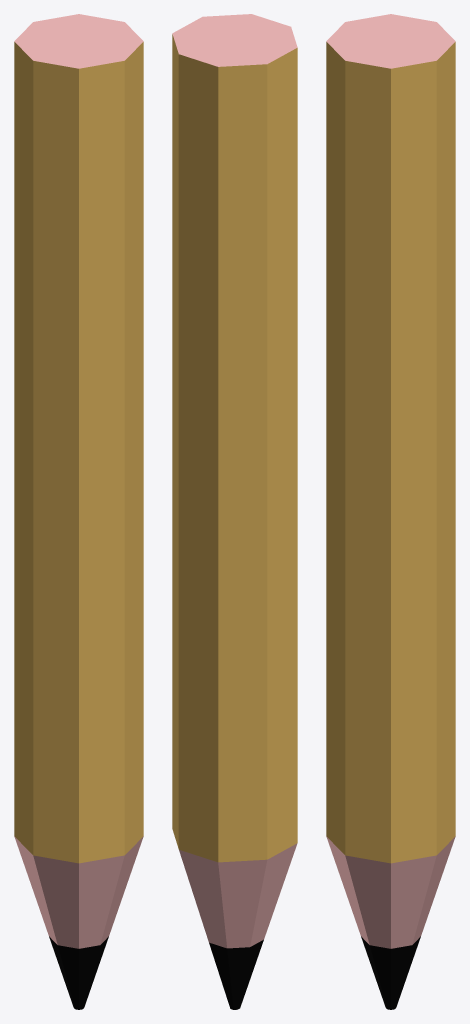
Rendered from Pencil.fbx.
3 renders of one model, left to right at view 1: azimuth 90°, elevation 25°; view 2: azimuth 210°, elevation 25°; view 3: azimuth 270°, elevation 25°, orthographic.
Parts seen in each view (by area): view 1: Cylinder; view 2: Cylinder; view 3: Cylinder.
Boxes of the visible parts, x1,y1,x2,y2 form: Cylinder: (14,14,143,1009); Cylinder: (172,14,297,1009); Cylinder: (326,14,455,1009).
Size of the model in its own units: 24.31 by 200 by 24.31.
